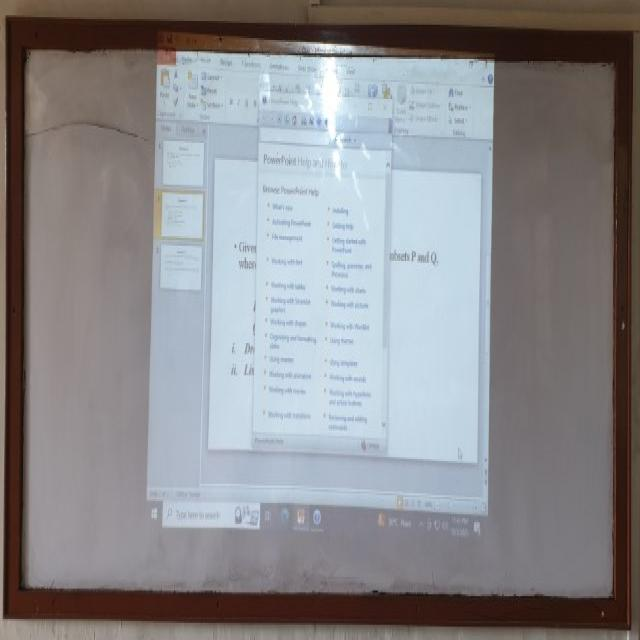Slide: (144, 29, 493, 541)
White-board: (14, 30, 625, 610)
